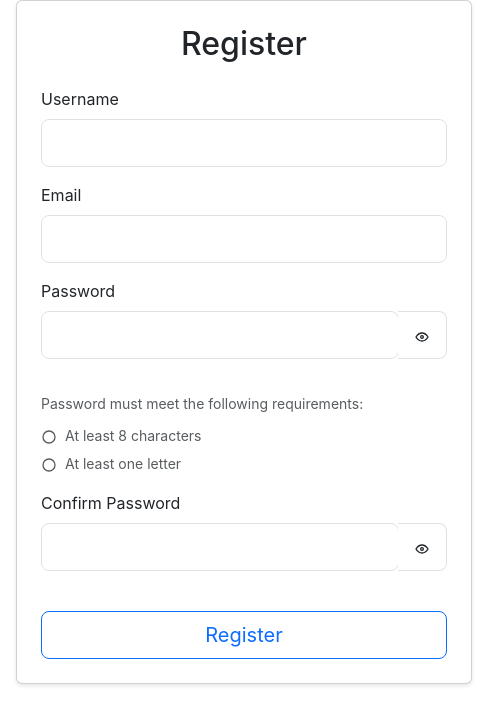
Test: Register Component › shows loading state on submit
In the field labelled "Username": [244, 143] box [41,119,447,167], type "testuser"
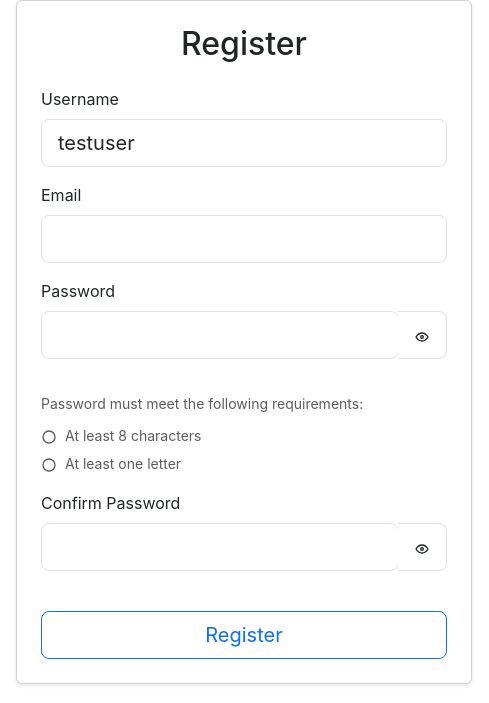
In the field labelled "Email": [244, 239] box [41,215,447,263], type "test@example.com"
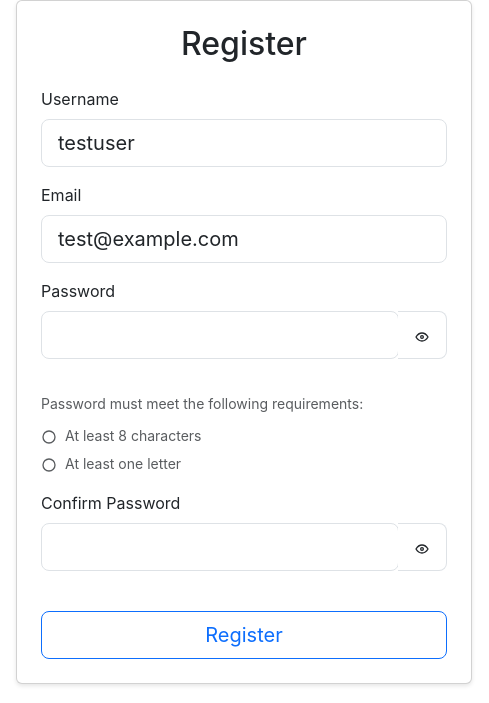
In the password field labelled "Password": [220, 335] box [41,311,399,359], type "password123"
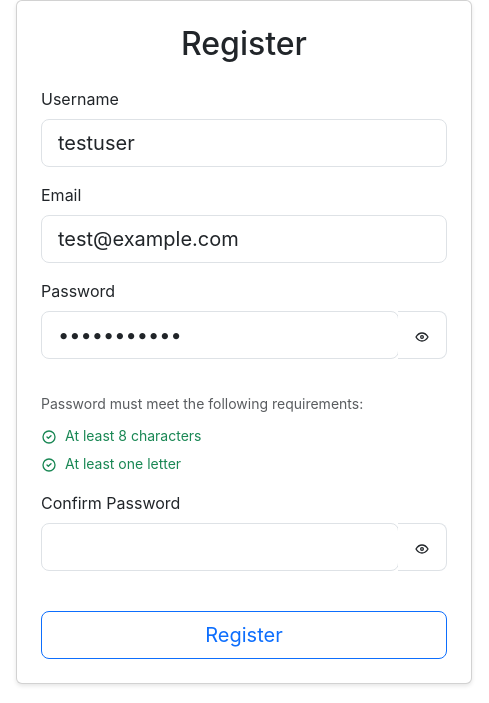
In the password field labelled "Confirm Password": [220, 547] box [41,523,399,571], type "password123"
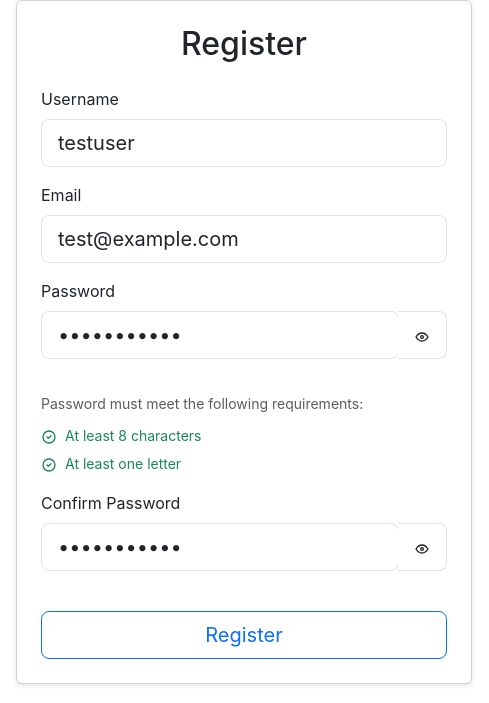
Click the button "Register": [244, 635] box [41,611,447,659]
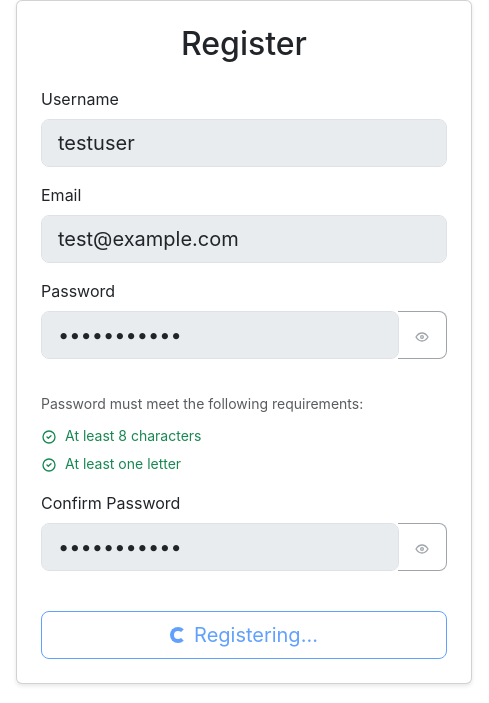
Expected: the button "Registering..." is disabled, [41,611,447,659]
